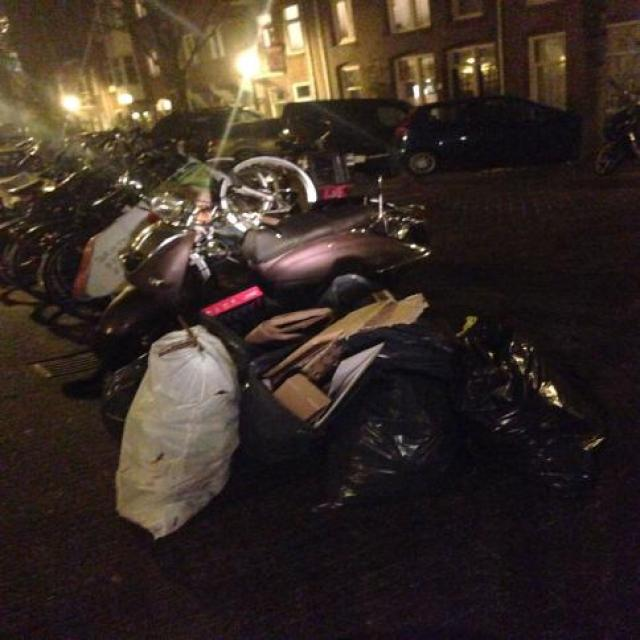Anorganik: (407, 303, 611, 503), (108, 313, 246, 539), (308, 344, 437, 543)
